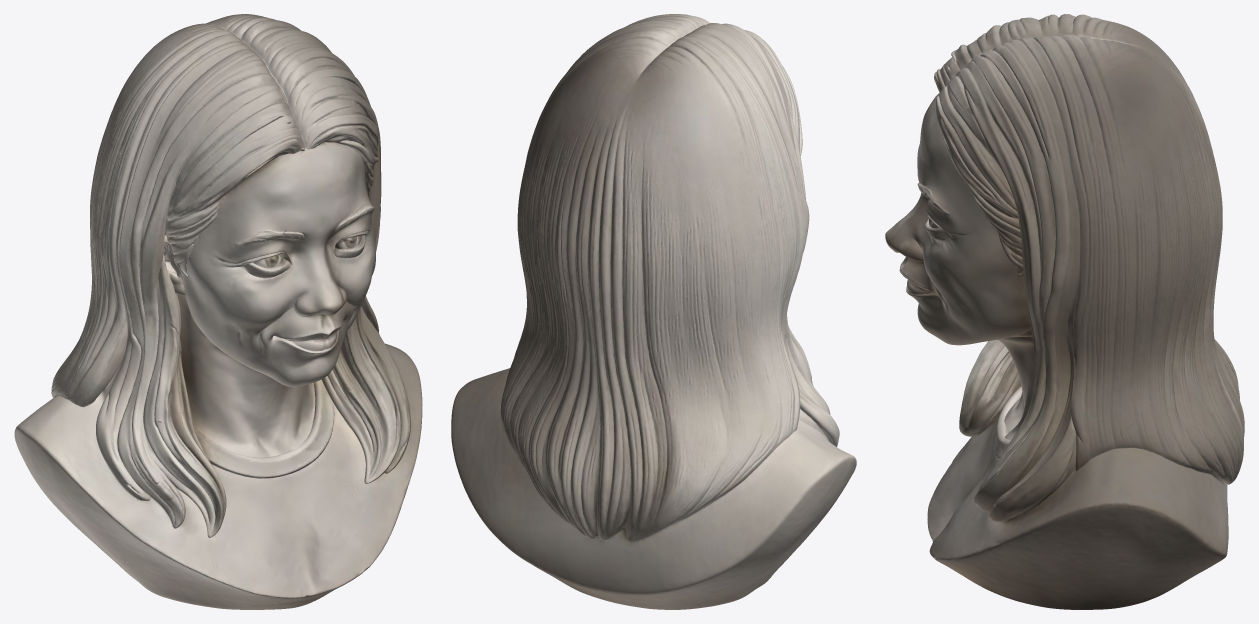
3 views of the same model, side by side, from view 1: azimuth 30°, elevation 25°; view 2: azimuth 150°, elevation 25°; view 3: azimuth 270°, elevation 25° (orthographic).
Parts seen in each view (by area): view 1: model; view 2: model; view 3: model.
Boxes of the visible parts, bbox=[...] form: model: bbox=[14, 14, 422, 609]; model: bbox=[451, 14, 856, 609]; model: bbox=[885, 14, 1244, 609].
Size of the model in its own units: 1.39 by 1.9 by 1.15.
Materials: 1 (1 with a texture image).
